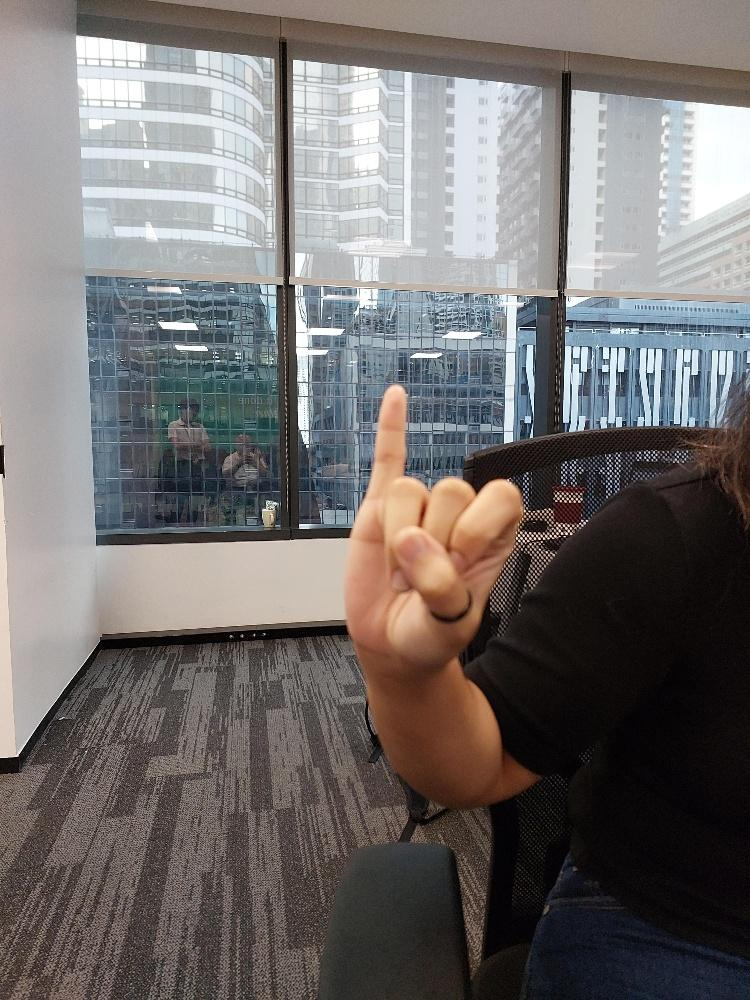i: (340, 380, 525, 671)
